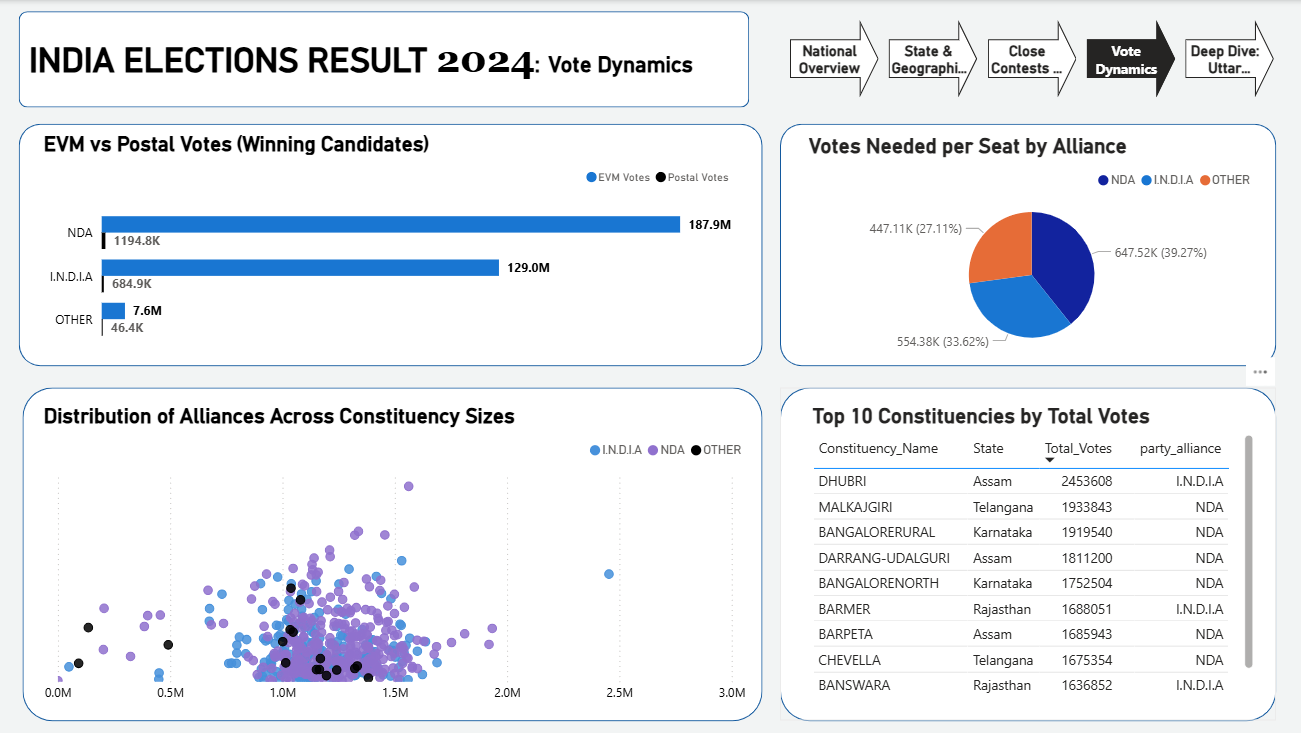

Layout of this report page (visuals, bound fields, positions):
{"tool":"powerbi","page":{"name":"Vote Dynamics","canvas":[1280,720],"ordinal":3},"visuals":[{"type":"shape","box":[18.4,10.8,717.1,94.5],"z":0},{"type":"textbox","box":[18.4,31.9,716.6,57.7],"z":1000},{"type":"pageNavigator","box":[775.5,19.6,477.3,76.1],"z":2000},{"type":"shape","box":[22.1,380.4,726.4,327.6],"z":3000},{"type":"scatterChart","title":"Distribution of Alliances Across Constituency Sizes","fields":{"Y":["vw_constituency_analysis.Winning_Margin_Pct"],"Series":["vw_constituency_analysis.party_alliance"],"Category":["vw_constituency_analysis.Constituency_ID"],"X":["vw_constituency_analysis.TotalVotes_Constituency"]},"box":[38,396.3,699.4,301.8],"z":4000},{"type":"shape","box":[18.4,121.5,730.1,238],"z":5000},{"type":"clusteredBarChart","title":"EVM vs Postal Votes (Winning Candidates)","fields":{"Y":["Sum(vw_constituency_analysis.EVM_Votes)","Sum(vw_constituency_analysis.Postal_Votes)","select"],"Category":["vw_constituency_analysis.party_alliance"]},"box":[38,128.8,687.1,224.5],"z":6000},{"type":"shape","box":[765.6,121.5,487.1,238],"z":7000},{"type":"pieChart","title":" Votes Needed per Seat by Alliance","fields":{"Category":["vw_alliance_summary.party_alliance"],"Y":["vw_alliance_summary.Votes_Per_Seat_Alliance"]},"box":[789,131.3,447.9,222.1],"z":8000},{"type":"shape","box":[765.6,380.4,487.1,327.6],"z":9000},{"type":"tableEx","title":"Top 10 Constituencies by Total Votes","fields":{"Values":["vw_constituency_analysis.Constituency_Name","vw_constituency_analysis.State","Sum(vw_constituency_analysis.Total_Votes)","vw_constituency_analysis.party_alliance"]},"box":[792.6,396.3,442.9,292],"z":10000}]}

Visuals, with their boxes in screenshot pixels (x1, y1, x2, y2), scaled from the page's 1280x720 canvas onto the 1301x733 screenshot:
shape: {"left": 19, "top": 11, "right": 748, "bottom": 107}
textbox: {"left": 19, "top": 32, "right": 747, "bottom": 91}
pageNavigator: {"left": 788, "top": 20, "right": 1273, "bottom": 97}
shape: {"left": 22, "top": 387, "right": 761, "bottom": 721}
"Distribution of Alliances Across Constituency Sizes" scatterChart: {"left": 39, "top": 403, "right": 749, "bottom": 711}
shape: {"left": 19, "top": 124, "right": 761, "bottom": 366}
"EVM vs Postal Votes (Winning Candidates)" clusteredBarChart: {"left": 39, "top": 131, "right": 737, "bottom": 360}
shape: {"left": 778, "top": 124, "right": 1273, "bottom": 366}
" Votes Needed per Seat by Alliance" pieChart: {"left": 802, "top": 134, "right": 1257, "bottom": 360}
shape: {"left": 778, "top": 387, "right": 1273, "bottom": 721}
"Top 10 Constituencies by Total Votes" tableEx: {"left": 806, "top": 403, "right": 1256, "bottom": 701}
